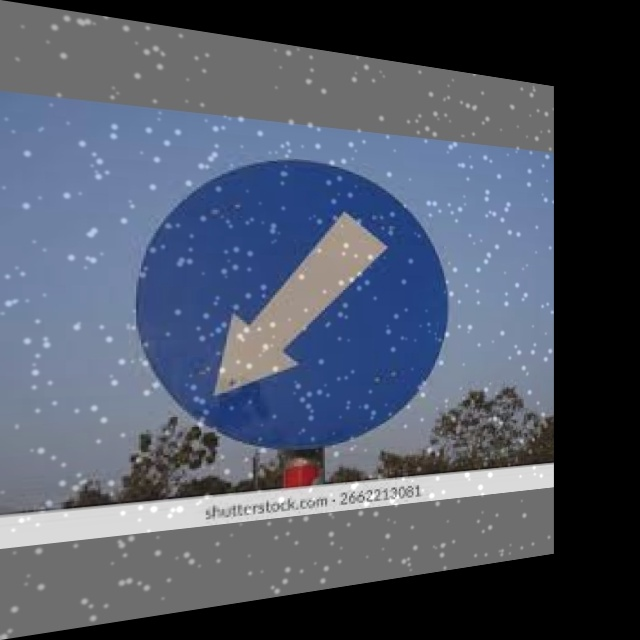Compulsory_Keep_Left: (139, 149, 440, 447)
